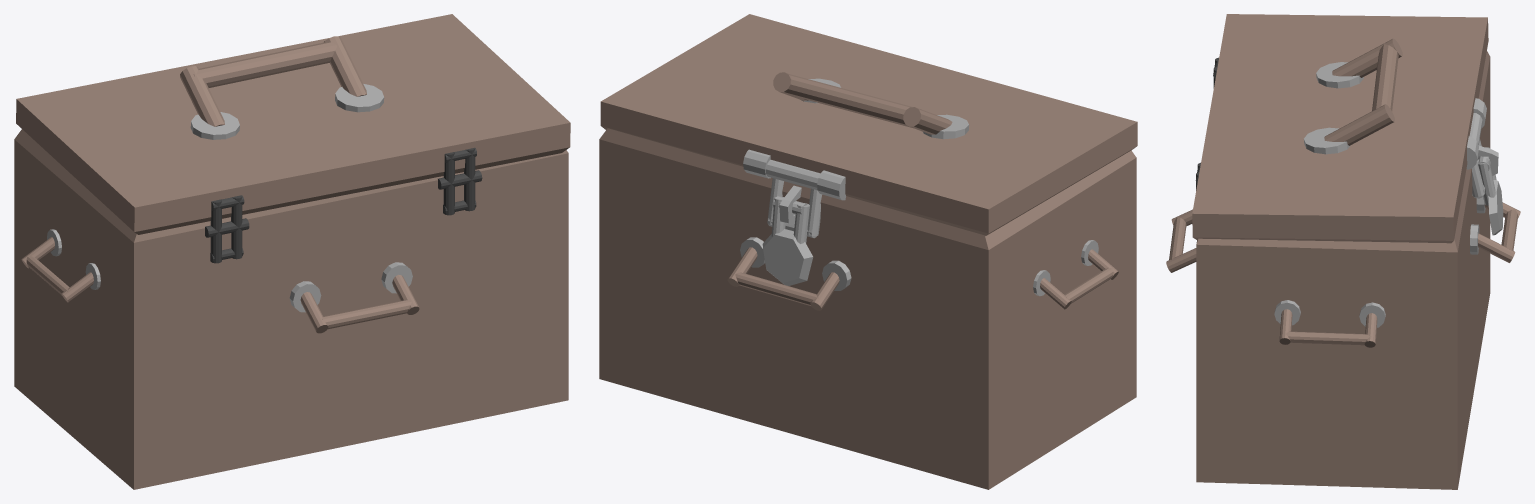
The model's file is p_ammo.glb.
3 renders of one model, left to right at view 1: azimuth 30°, elevation 25°; view 2: azimuth 150°, elevation 25°; view 3: azimuth 270°, elevation 25°, orthographic. The views are drawn at different scales.
Parts seen in each view (by area): view 1: hull; view 2: hull; view 3: hull.
Part boxes in pixels (<box>): hull: <box>14,14,570,489</box>; hull: <box>599,14,1137,489</box>; hull: <box>1166,14,1520,489</box>.
Size of the model in its own units: 0.55 by 0.3511 by 0.3597.
